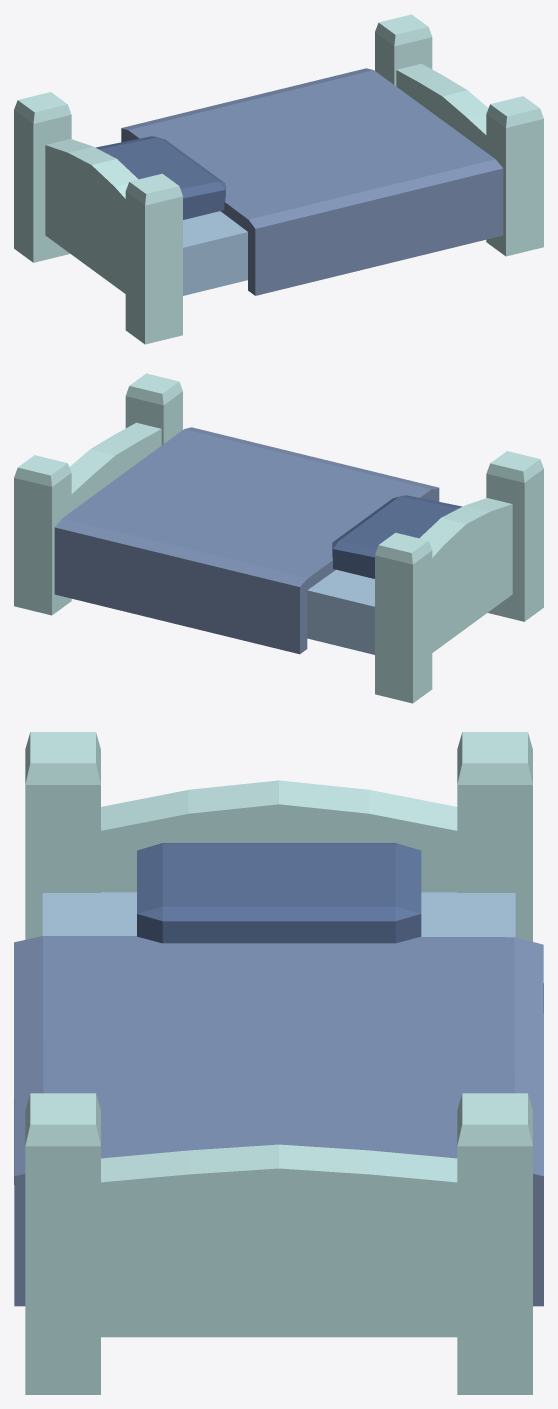
Rendered from Bed.fbx.
3 renders of one model, top to bottom at view 1: azimuth 30°, elevation 25°; view 2: azimuth 150°, elevation 25°; view 3: azimuth 270°, elevation 25°, orthographic. The views are drawn at different scales.
Parts seen in each view (by area): view 1: blanket, front legs, bback legs, Cube.003, Cube, Cube.001, Cube.002; view 2: blanket, front legs, bback legs, Cube.003, Cube, Cube.001, Cube.002; view 3: blanket, Cube.002, bback legs, Cube.001, front legs, Cube.003, Cube.
Boxes of the visible parts, bbox=[...] form: blanket: bbox=[121, 68, 503, 295]; front legs: bbox=[14, 92, 182, 344]; bback legs: bbox=[375, 14, 543, 256]; Cube.003: bbox=[45, 139, 138, 293]; Cube: bbox=[183, 211, 247, 295]; Cube.001: bbox=[95, 136, 225, 219]; Cube.002: bbox=[396, 63, 488, 151]; blanket: bbox=[54, 427, 439, 654]; front legs: bbox=[375, 451, 543, 703]; bback legs: bbox=[14, 373, 182, 615]; Cube.003: bbox=[419, 498, 512, 652]; Cube: bbox=[307, 569, 374, 654]; Cube.001: bbox=[332, 495, 462, 578]; Cube.002: bbox=[69, 422, 161, 510]; blanket: bbox=[14, 936, 543, 1306]; Cube.002: bbox=[101, 1144, 457, 1337]; bback legs: bbox=[25, 1093, 532, 1394]; Cube.001: bbox=[137, 843, 421, 943]; front legs: bbox=[25, 732, 532, 941]; Cube.003: bbox=[101, 780, 457, 892]; Cube: bbox=[42, 892, 515, 937].
Size of the model in its own units: 237 by 398 by 142.
